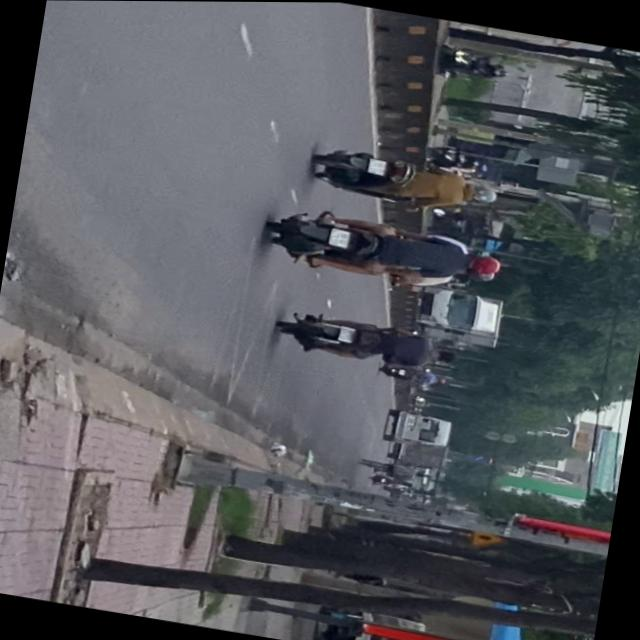helmet: (468, 250, 504, 276), (467, 181, 501, 204)
licenseplate: (262, 198, 509, 299), (310, 141, 503, 217)
nohelmet: (330, 227, 352, 246), (368, 157, 388, 173)
